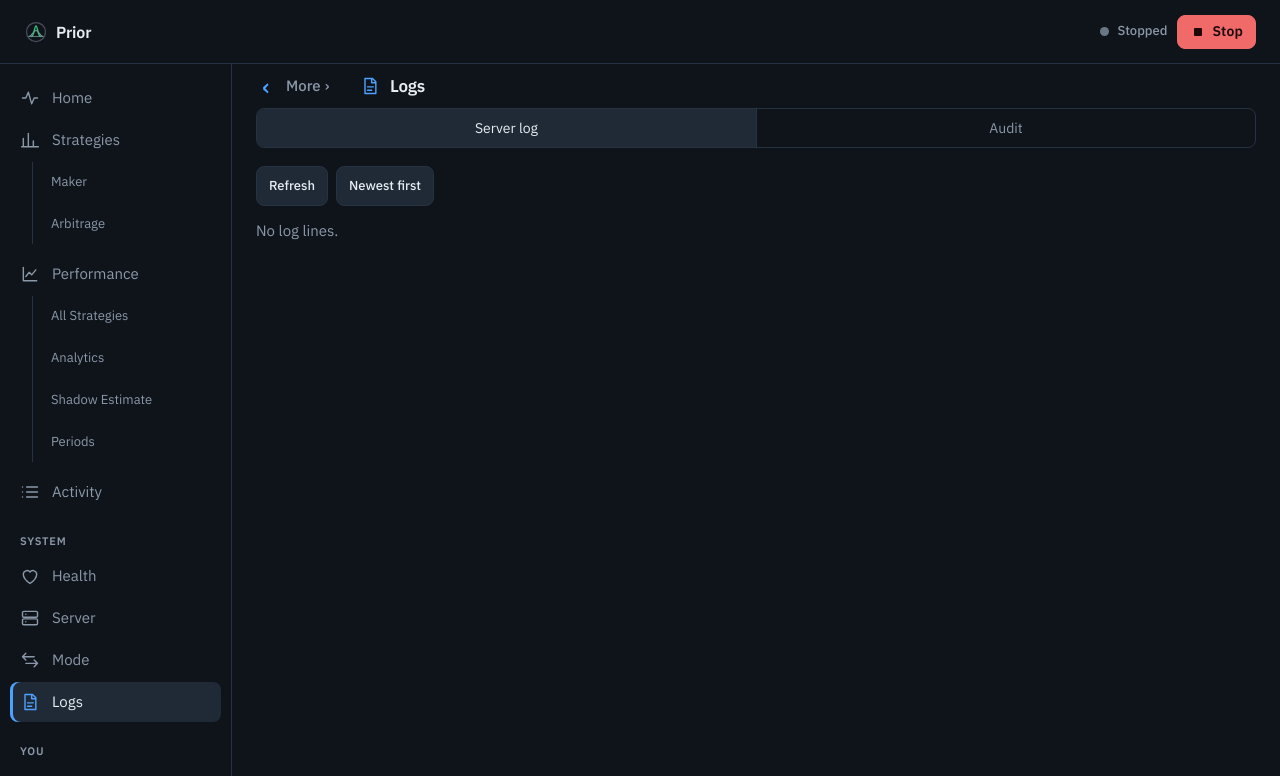
Test: CollapsibleList on pages › Logs audit keeps failed entries visible and collapses the rest
This screenshot has width=1280, height=776.
Click the tab "Audit" at [1006, 128], box [756, 109, 1255, 147]
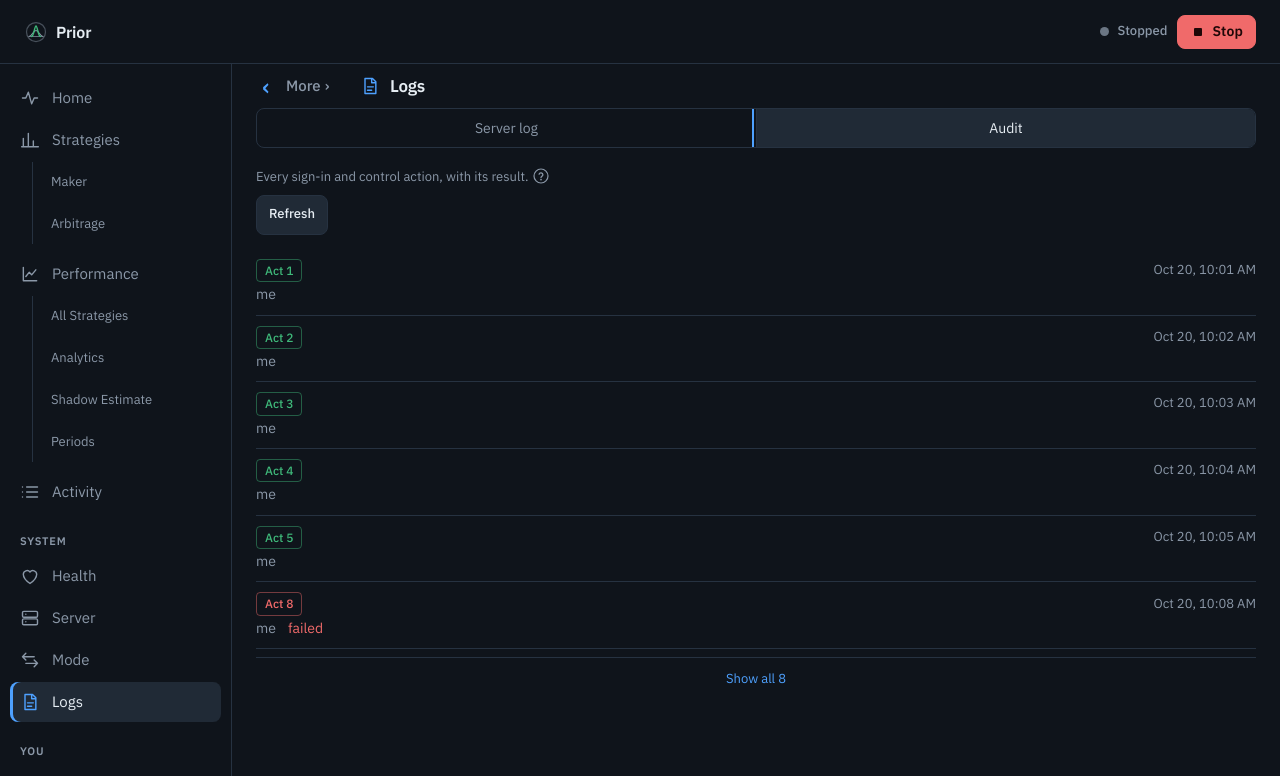
expect the text "Act 7" is not shown: met
expect the text "Act 8" is shown: met, box [256, 592, 302, 616]
Click the button "Show all 8" at [756, 679], box [256, 657, 1256, 701]
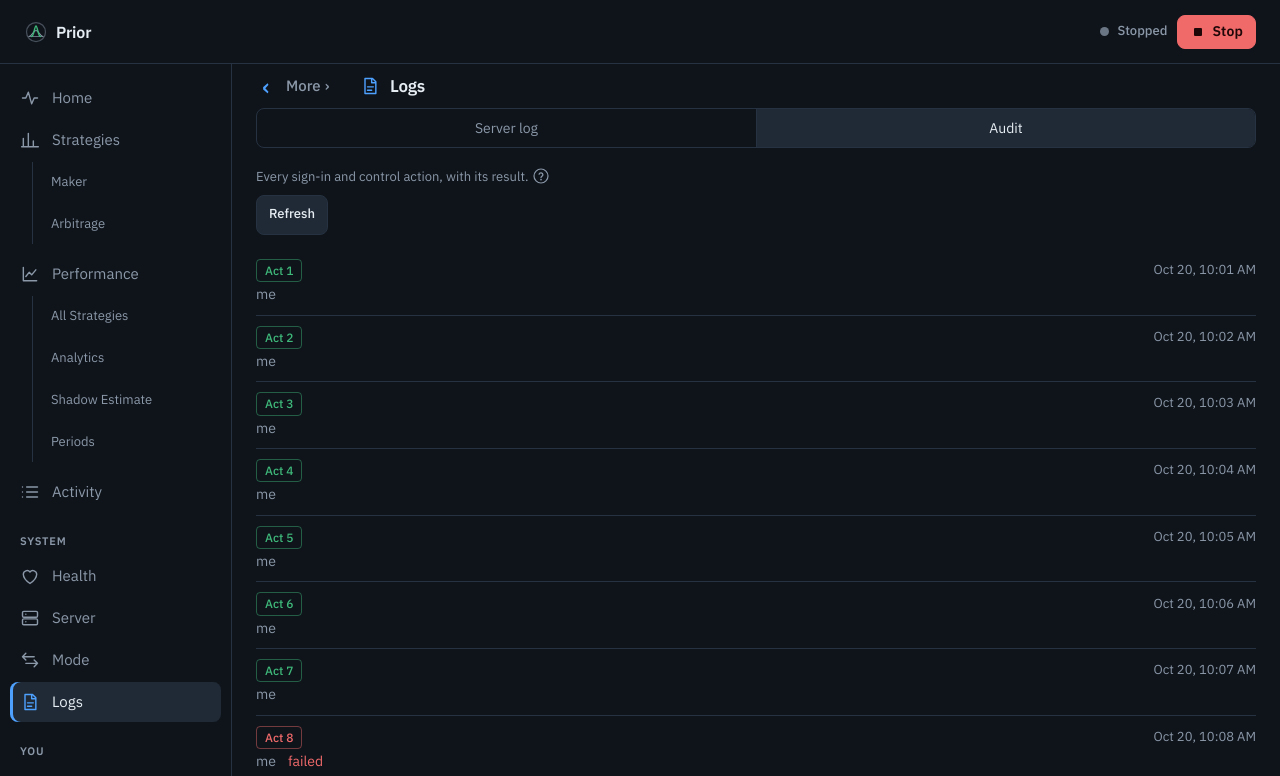
expect the text "Act 7" is shown: met, box [256, 659, 302, 682]
